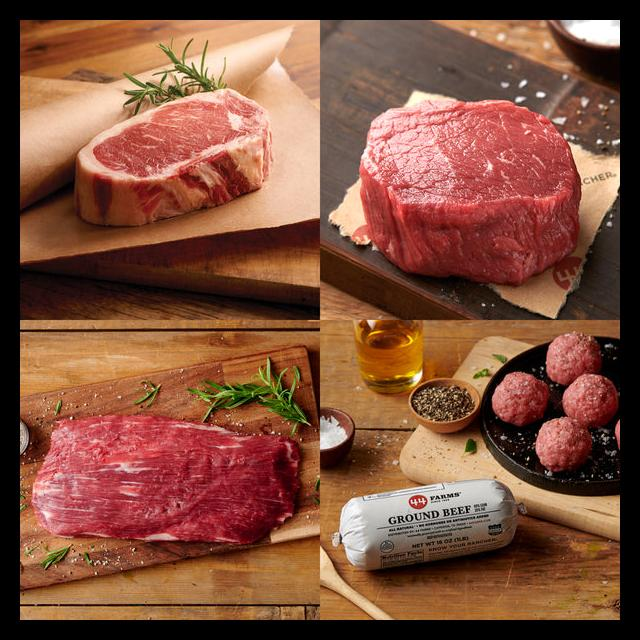beef: (362, 95, 582, 290), (72, 71, 297, 237), (28, 415, 304, 550), (481, 318, 620, 476)
